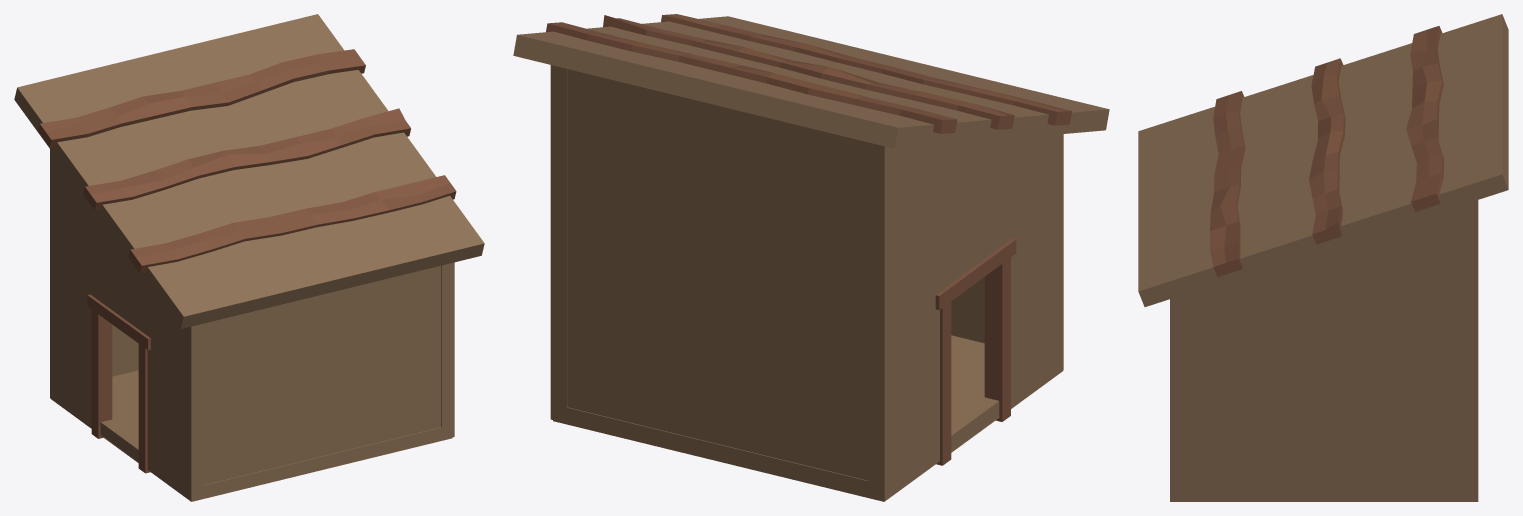
The model's file is toilhouse3.FBX.
3 views of the same model, side by side, from view 1: azimuth 30°, elevation 25°; view 2: azimuth 150°, elevation 25°; view 3: azimuth 270°, elevation 25° (orthographic). The views are drawn at different scales.
Parts seen in each view (by area): view 1: Box005, Box003, Box006, Shape005, Box001, Shape001, Box004, Box002, Shape002; view 2: Box002, Box006, Box005, Shape005, Box001, Box004, Shape001, Box003, Shape002; view 3: Box004, Box005, Shape005.
Boxes of the visible parts, left/top/right/bottom form: Box005: left=14, top=14, right=484, bottom=328; Box003: left=204, top=265, right=441, bottom=484; Box006: left=50, top=149, right=203, bottom=500; Shape005: left=38, top=49, right=456, bottom=273; Box001: left=50, top=370, right=452, bottom=501; Shape001: left=91, top=310, right=150, bottom=473; Box004: left=441, top=262, right=454, bottom=439; Box002: left=112, top=324, right=138, bottom=376; Shape002: left=87, top=294, right=150, bottom=350; Box002: left=567, top=69, right=868, bottom=480; Box006: left=868, top=134, right=1063, bottom=500; Box005: left=513, top=16, right=1109, bottom=148; Shape005: left=546, top=14, right=1071, bottom=133; Box001: left=553, top=335, right=1063, bottom=501; Box004: left=550, top=65, right=567, bottom=422; Shape001: left=936, top=257, right=1010, bottom=465; Box003: left=951, top=277, right=984, bottom=343; Shape002: left=935, top=238, right=1016, bottom=310; Box004: left=1170, top=200, right=1478, bottom=501; Box005: left=1138, top=14, right=1508, bottom=306; Shape005: left=1210, top=26, right=1444, bottom=276.
Bounding box in the file's own units: 72.6 × 68.98 × 68.08.
